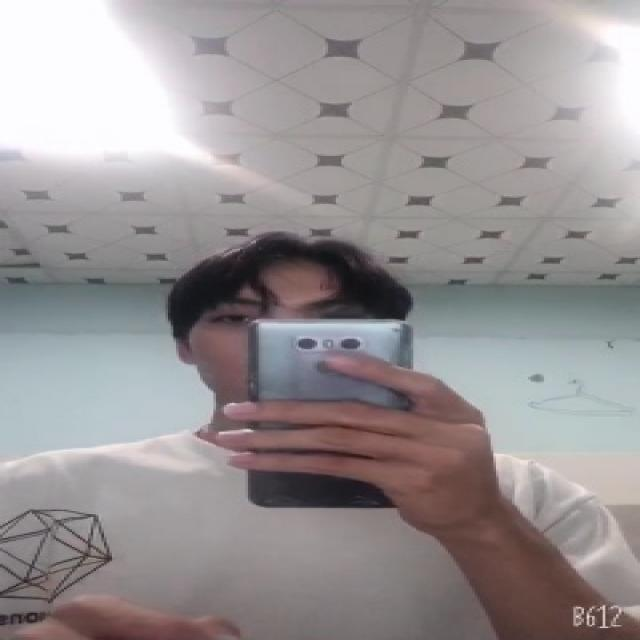Phone: (240, 314, 418, 512)
